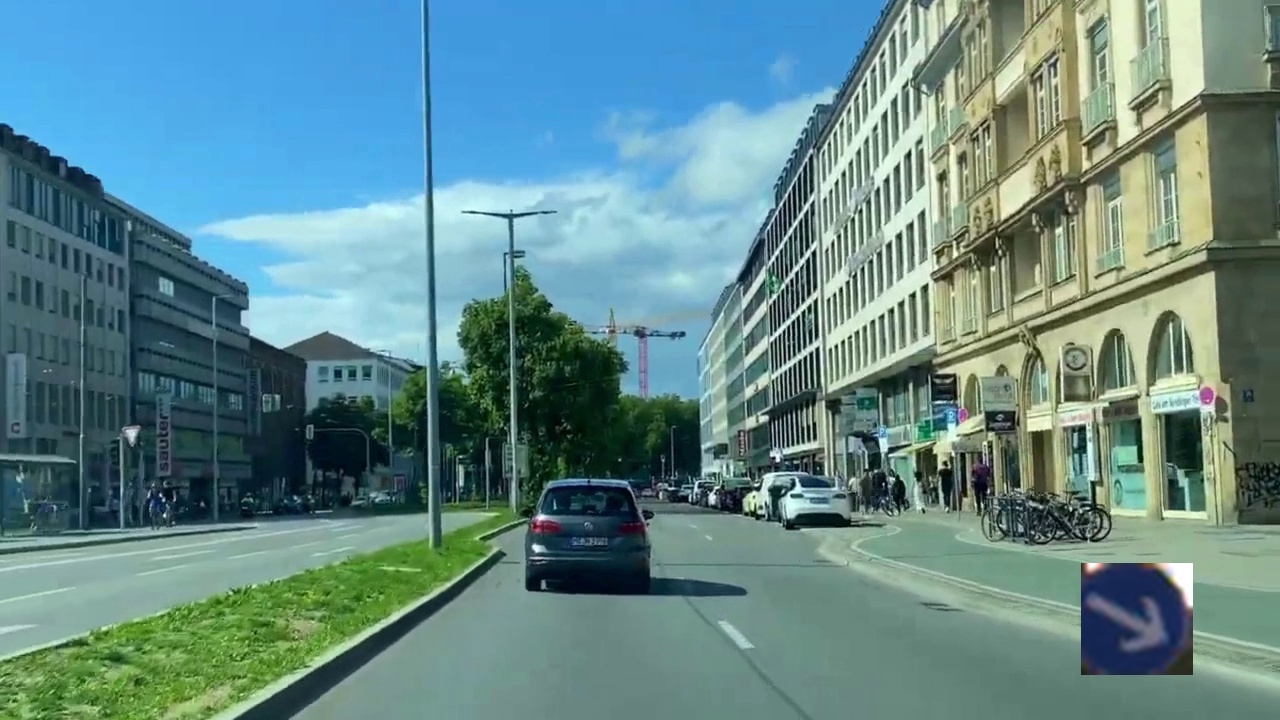Keep right: (1081, 563, 1193, 675)
